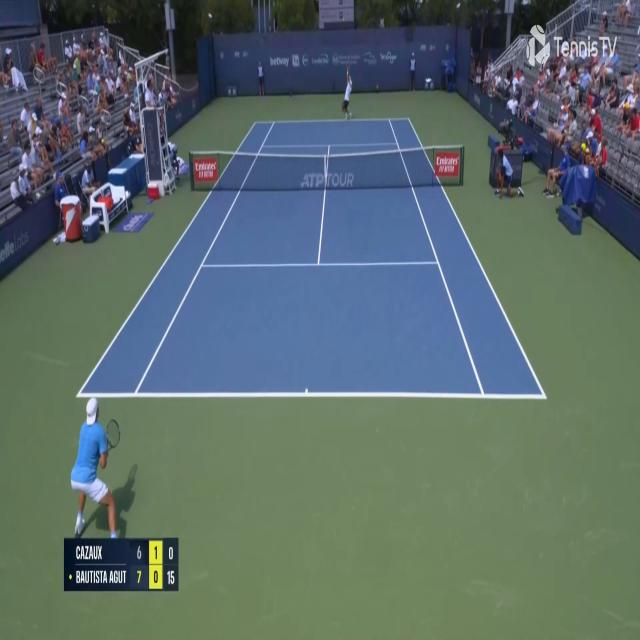tennis-player: (69, 324, 138, 546), (340, 70, 355, 120)
